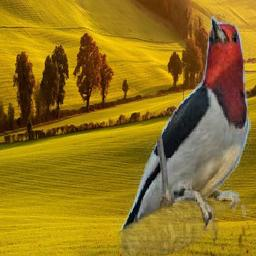Woodpecker: (114, 5, 255, 255)
